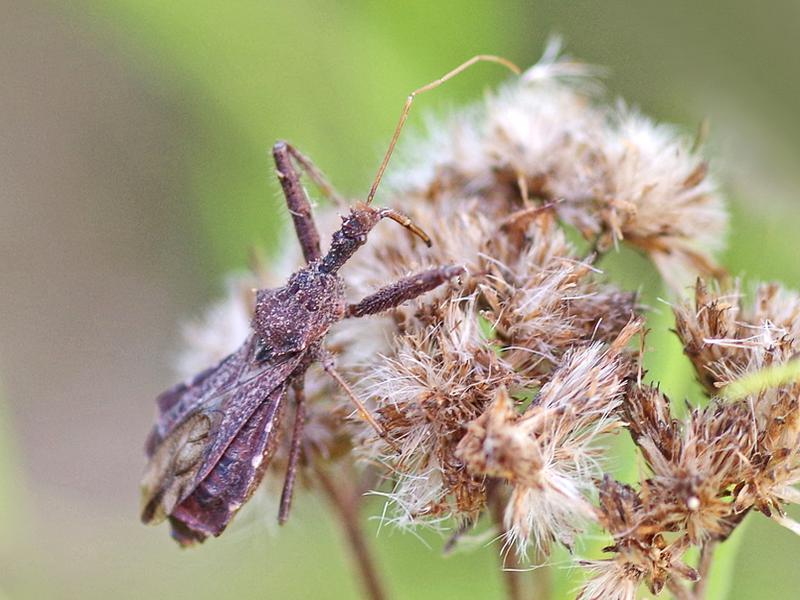Spiny_beetle: (112, 190, 428, 570)
